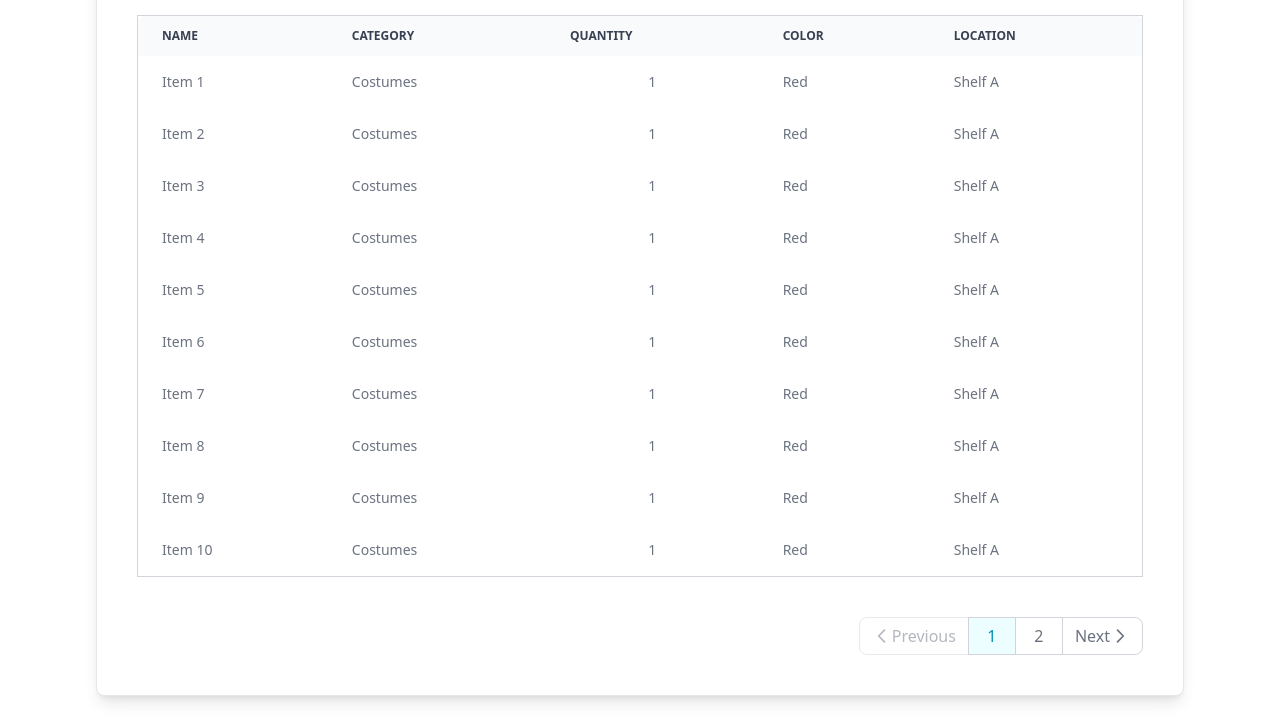
Scenario: Items Page › disables pagination buttons appropriately
(page scrolled)
Expected: the text "Item 1" is shown, [138, 56, 328, 108]
Expected: the button "Previous" is disabled, [859, 617, 969, 655]
What coordinates should you click on to do the following:
click the button "Next"
I would click on:
 (1102, 636)
Its box is [1062, 617, 1143, 655].
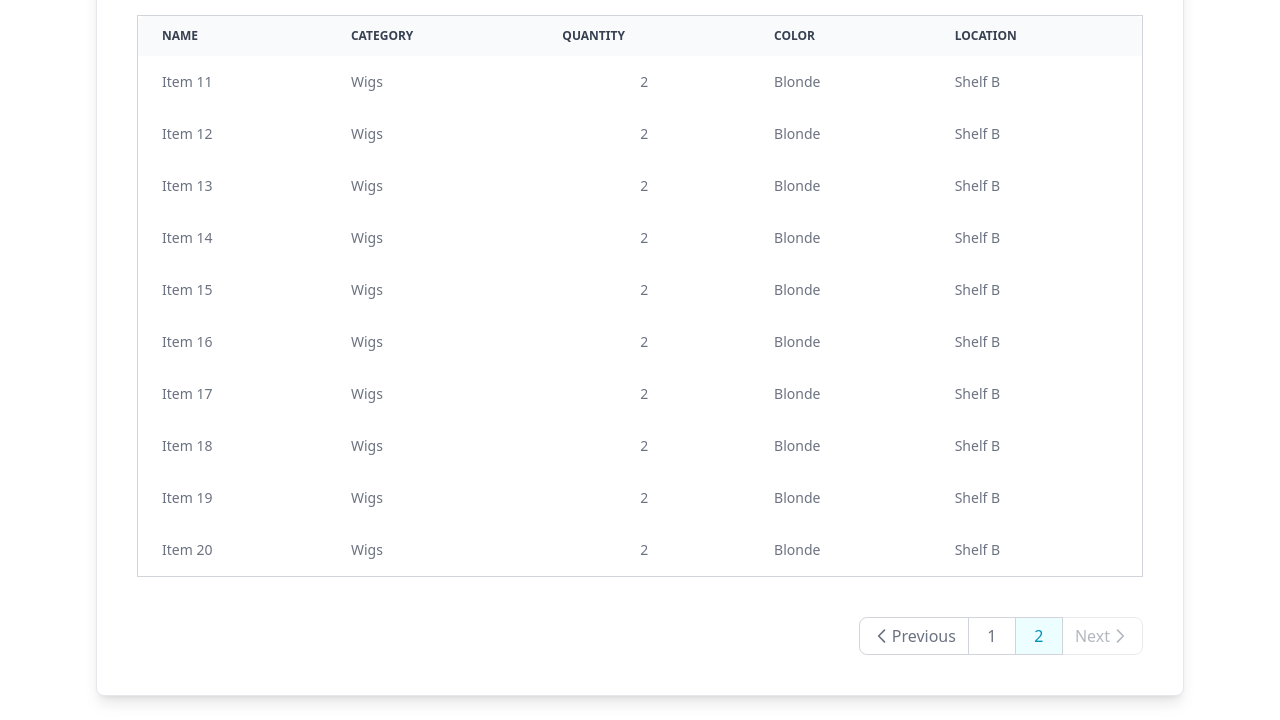
Expected: the button "Previous" is enabled, [859, 617, 969, 655]
Result: the text "Item 11" is shown at [138, 56, 327, 108]
